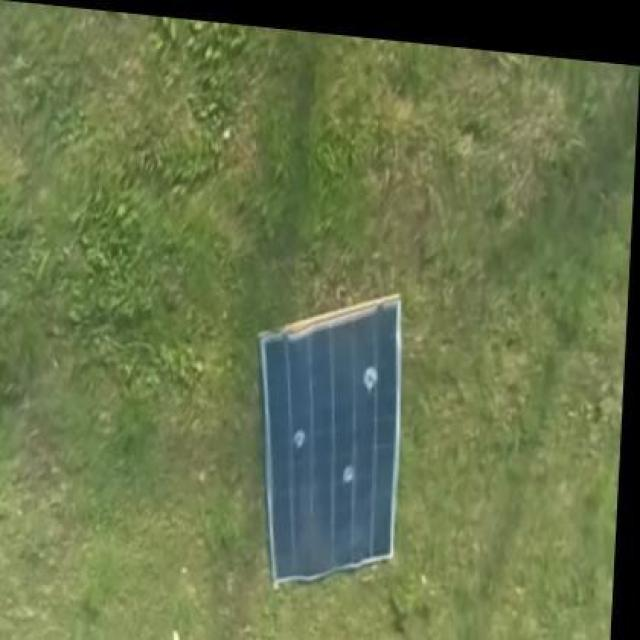soiled: (260, 291, 402, 588)
